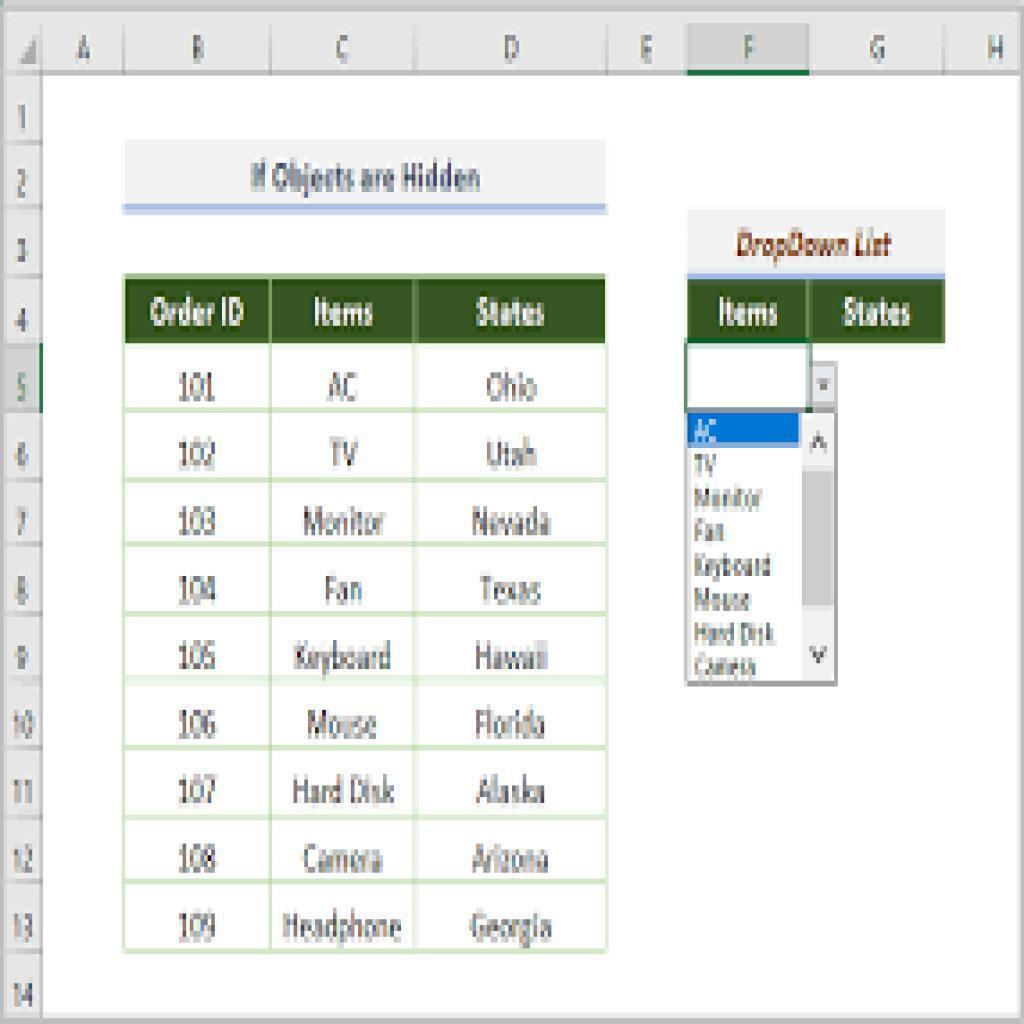button: (809, 277, 944, 344), (689, 279, 807, 342)
dropdown: (686, 341, 837, 409)
